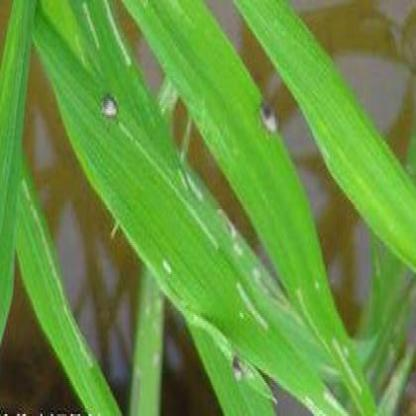rice-bug: (258, 98, 280, 138), (100, 91, 118, 122), (233, 352, 247, 382)
